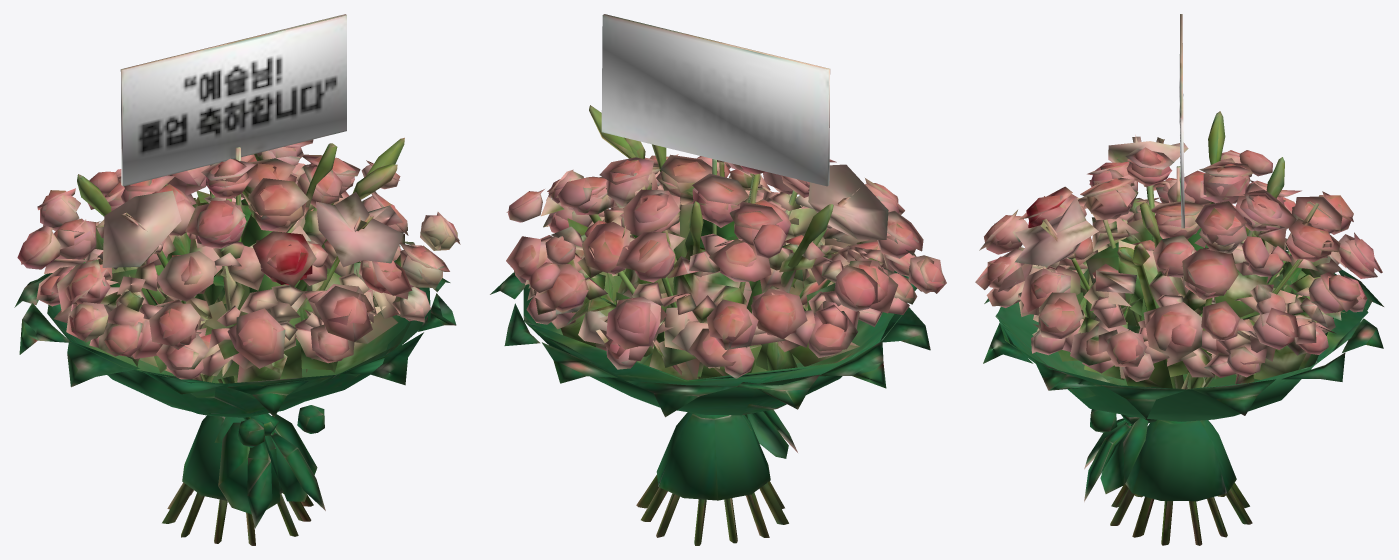
File: graduation_cap.glb
The picture shows the model from 3 angles, left to right: view 1: azimuth 30°, elevation 25°; view 2: azimuth 150°, elevation 25°; view 3: azimuth 270°, elevation 25°; orthographic projection. The views are drawn at different scales.
Parts seen in each view (by area): view 1: mesh_node; view 2: mesh_node; view 3: mesh_node.
Boxes of the visible parts, box(x1,y1,x2,y2) form: mesh_node: box(14, 14, 460, 545); mesh_node: box(490, 14, 946, 545); mesh_node: box(975, 14, 1383, 545).
Bounding box in the file's own units: 0.8711 × 1 × 0.8301.
Materials: 1 (1 with a texture image).
